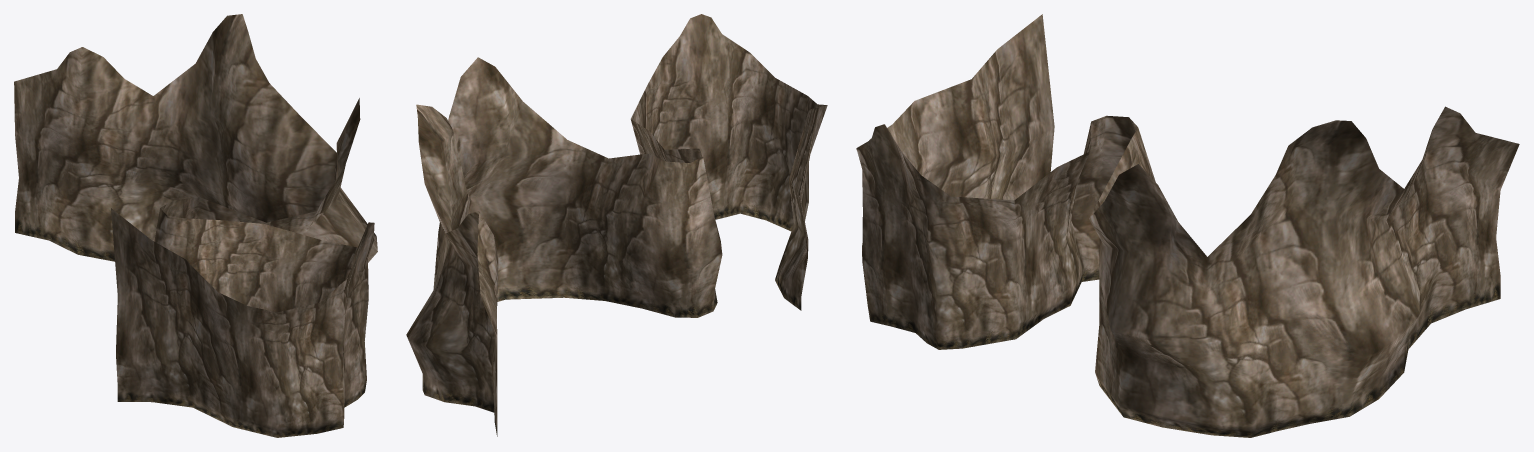
File: OVERHILL_A_01_OBJECT18.fbx
3 views of the same model, side by side, from view 1: azimuth 30°, elevation 25°; view 2: azimuth 150°, elevation 25°; view 3: azimuth 270°, elevation 25° (orthographic). The views are drawn at different scales.
Visible parts, largest first — view 1: OVERHILL_A_01_OBJECT18; view 2: OVERHILL_A_01_OBJECT18; view 3: OVERHILL_A_01_OBJECT18.
Boxes of the visible parts, x1,y1,x2,y2 form: OVERHILL_A_01_OBJECT18: (14,14,377,437); OVERHILL_A_01_OBJECT18: (406,14,827,436); OVERHILL_A_01_OBJECT18: (856,14,1519,437).
Size of the model in its own units: 147597 by 125022 by 243011.
2 materials, 2 textured.
